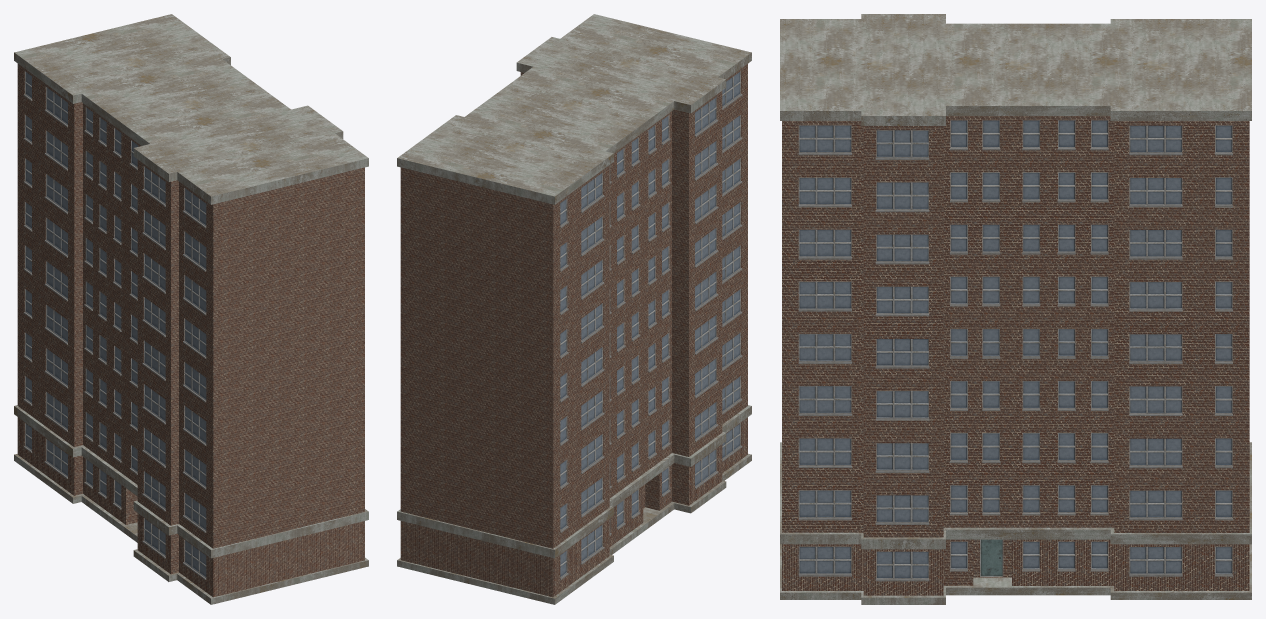
Rendered from apartmentbuilding1.FBX.
3 renders of one model, left to right at view 1: azimuth 30°, elevation 25°; view 2: azimuth 150°, elevation 25°; view 3: azimuth 270°, elevation 25°, orthographic. The views are drawn at different scales.
Parts seen in each view (by area): view 1: Object001; view 2: Object001; view 3: Object001.
Boxes of the visible parts, x1,y1,x2,y2 form: Object001: (14,14,368,604); Object001: (397,14,751,604); Object001: (780,14,1251,604).
Bounding box in the file's own units: 1086 × 2429 × 2124.
Materials: 3 (3 with a texture image).
